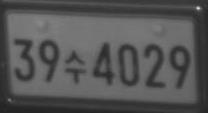0: (118, 43, 139, 85)
2: (144, 43, 166, 88)
3: (14, 38, 34, 80)
4: (93, 42, 115, 86)
9: (169, 44, 190, 89), (38, 39, 59, 82)
수: (64, 49, 86, 84)
